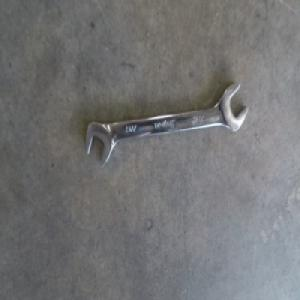Wrench: (87, 81, 246, 164)
